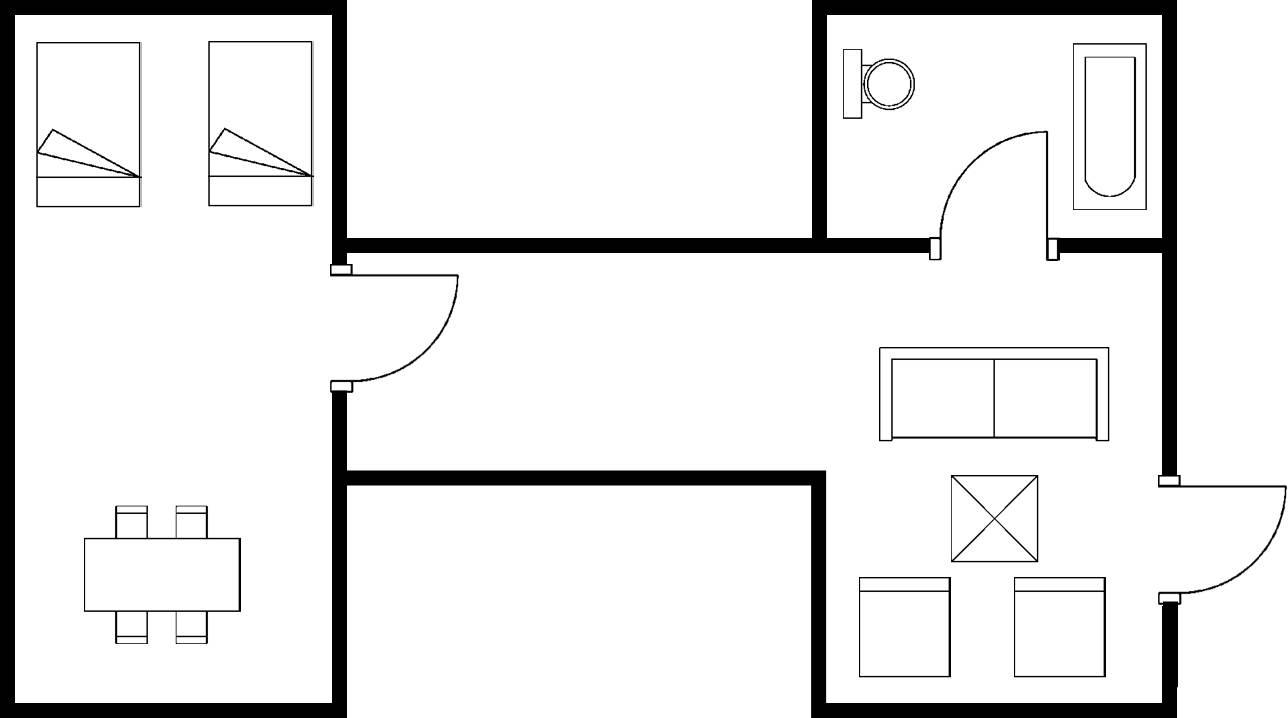bed: (33, 35, 149, 215), (204, 32, 319, 211)
dining_table: (79, 498, 247, 650)
sofa: (875, 340, 1117, 446)
toilet: (839, 44, 922, 126)
tub: (1066, 36, 1154, 215)
